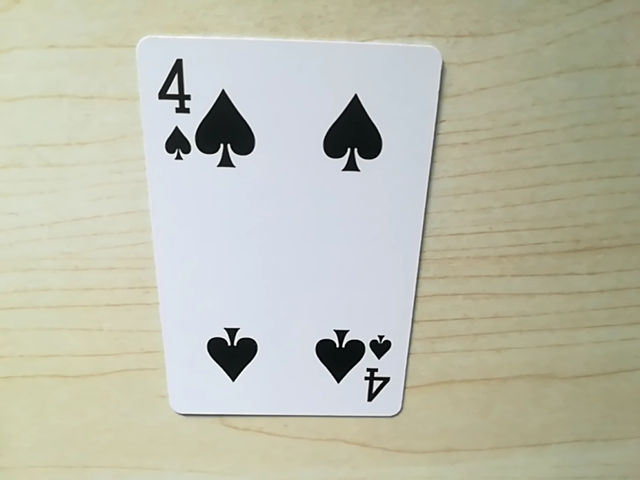ht 4: (152, 54, 204, 165), (358, 333, 396, 409)
